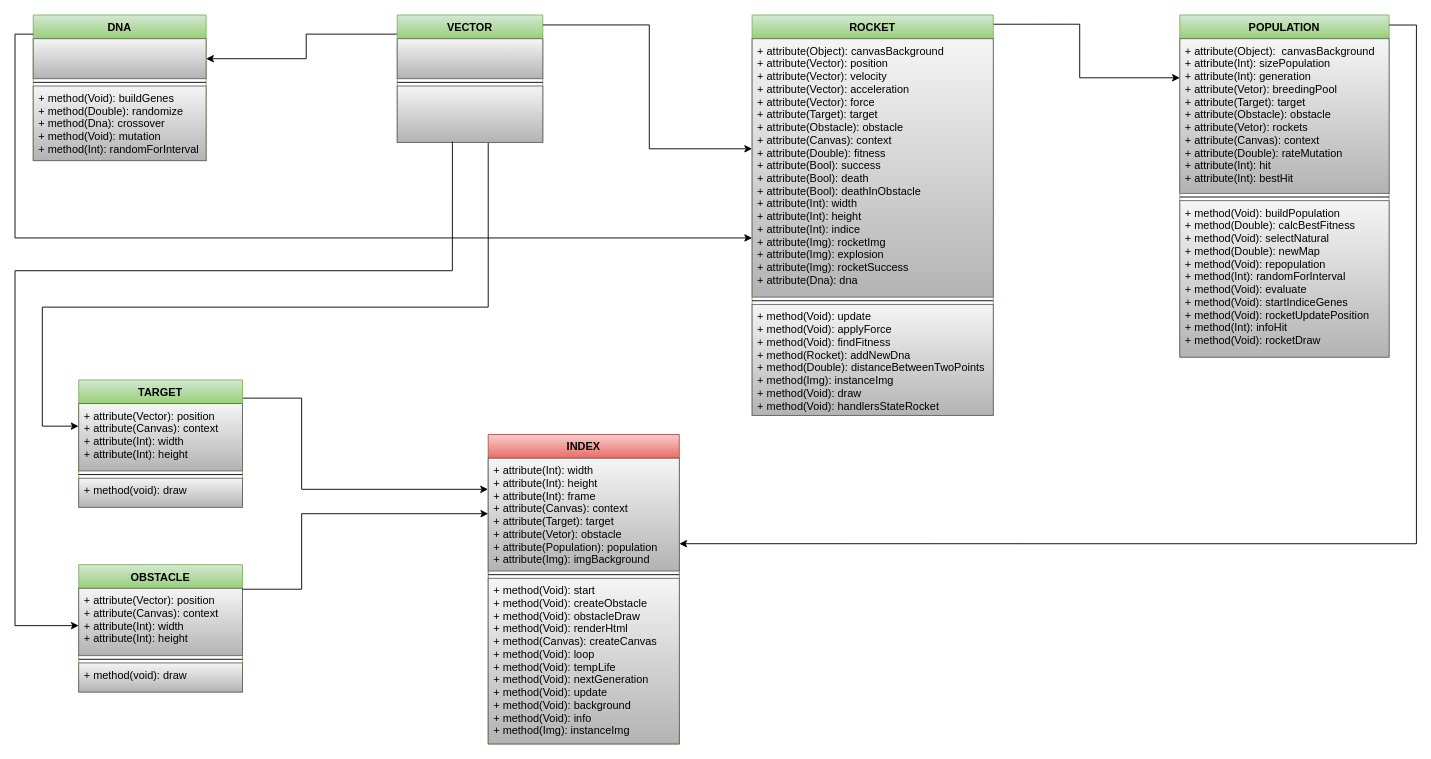
This 1431x759 diagram has some shape labels left out. Each missing label, with the centre of its shape:
"+ attribute(Double): x + attribute(Double): y" belongs at pixel 469 58.
"+ attribute(Int): lengthGenes + attribute(Vector): genes" belongs at pixel 119 58.
"+ method(Void): set + method(Void): getAngle + method(Void): add" belongs at pixel 469 113.
